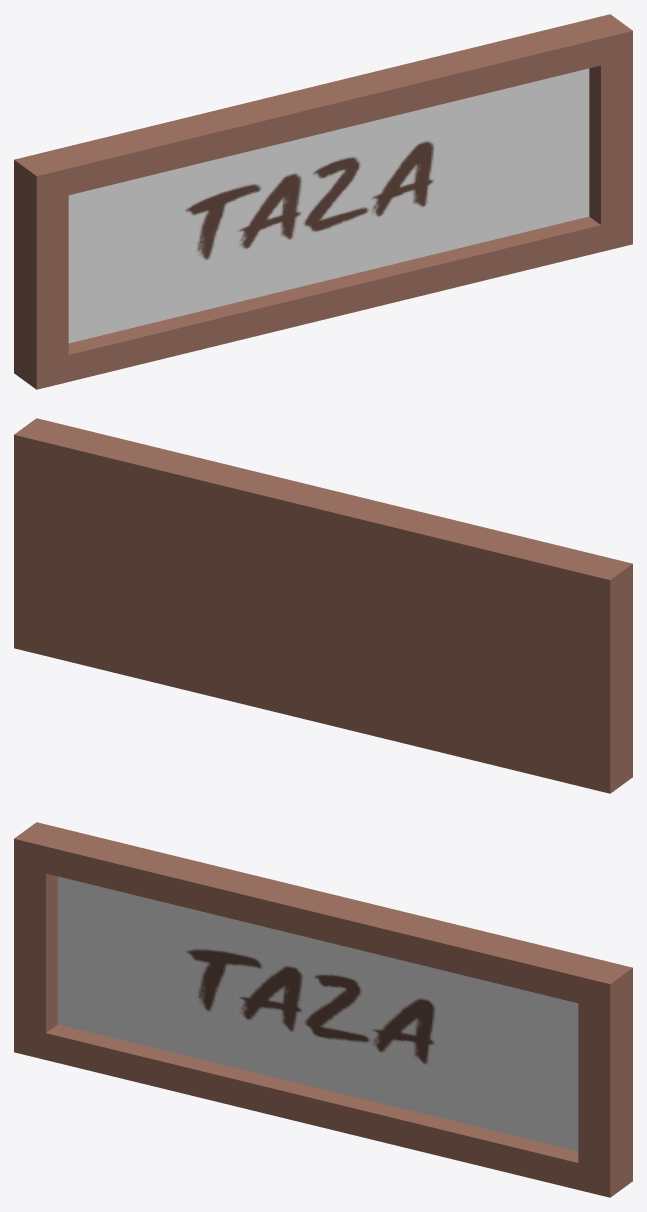
Rendered from CartelTaza.fbx.
3 renders of one model, top to bottom at view 1: azimuth 30°, elevation 25°; view 2: azimuth 150°, elevation 25°; view 3: azimuth 330°, elevation 25°, orthographic.
Visible parts, largest first — view 1: Cubo.001; view 2: Cubo.001; view 3: Cubo.001.
Boxes of the visible parts, left/top/right/bottom form: Cubo.001: left=14, top=14, right=632, bottom=389; Cubo.001: left=14, top=418, right=632, bottom=793; Cubo.001: left=14, top=822, right=632, bottom=1197.
Bounding box in the file's own units: 180 × 61.58 × 11.85.
